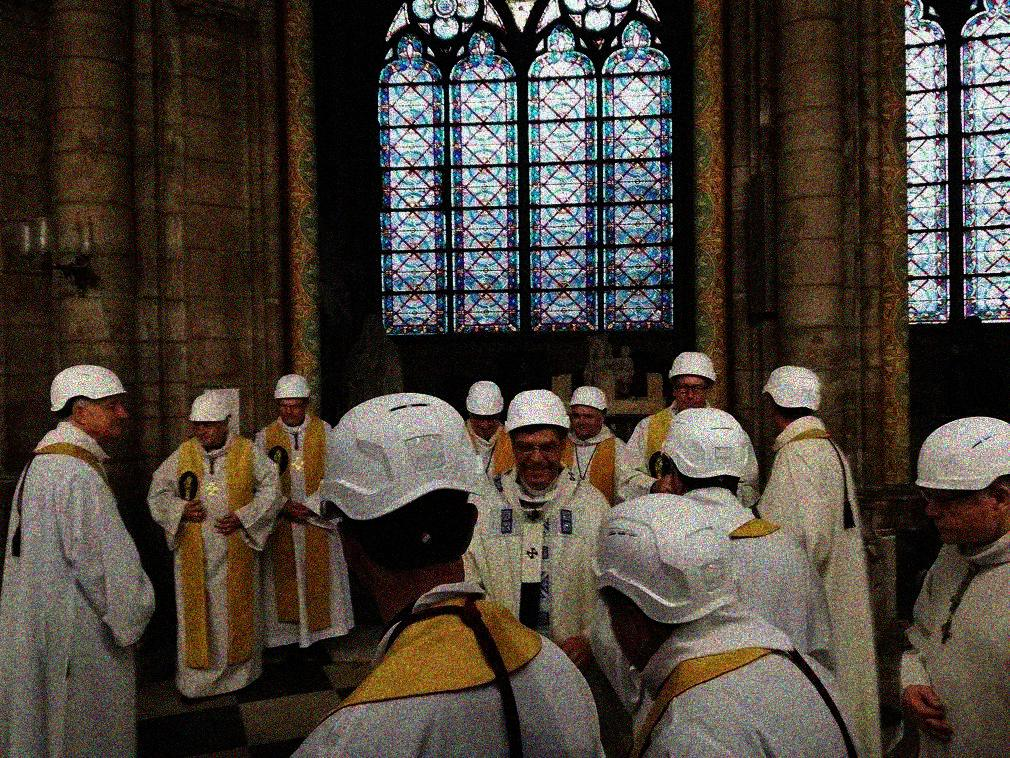helmet: (312, 387, 492, 587), (594, 491, 742, 658), (913, 412, 1010, 542), (658, 403, 751, 497), (502, 387, 574, 491), (46, 362, 131, 442), (760, 361, 826, 424), (664, 348, 714, 406), (188, 391, 234, 449), (270, 372, 313, 426), (464, 377, 505, 433), (568, 385, 607, 440)
